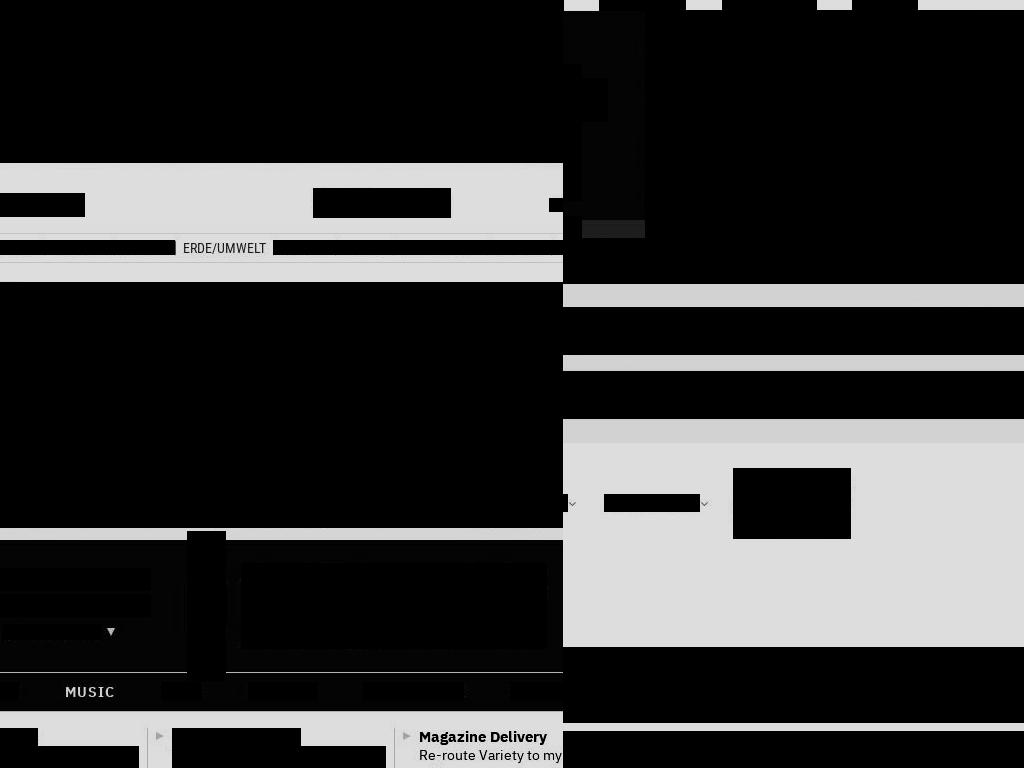button: (241, 563, 547, 649), (563, 371, 1024, 419), (733, 468, 851, 539), (0, 568, 151, 591), (0, 594, 151, 617), (313, 192, 451, 212), (175, 240, 273, 255), (393, 240, 486, 255), (45, 240, 114, 255), (486, 240, 551, 255), (273, 240, 335, 255), (114, 240, 175, 255), (335, 240, 393, 255), (0, 240, 45, 255), (551, 240, 563, 255)
field: (0, 193, 85, 217), (996, 26, 1024, 59)
heading: (563, 647, 1024, 723), (241, 563, 547, 649), (172, 728, 301, 746), (419, 728, 547, 746), (0, 728, 38, 746)
iframe: (0, 284, 563, 528), (0, 0, 563, 163)
image: (645, 10, 1024, 284), (187, 531, 226, 681), (733, 484, 851, 525), (313, 188, 451, 218)
link: (563, 259, 1024, 284)
text: (563, 307, 1024, 355), (563, 238, 1024, 275), (563, 731, 1024, 768), (172, 746, 386, 768), (419, 746, 563, 768), (0, 746, 139, 768), (363, 682, 464, 701), (604, 494, 700, 512), (2, 624, 102, 640), (248, 682, 318, 701), (510, 682, 563, 701), (65, 682, 116, 701), (161, 682, 202, 701), (0, 682, 19, 701)
